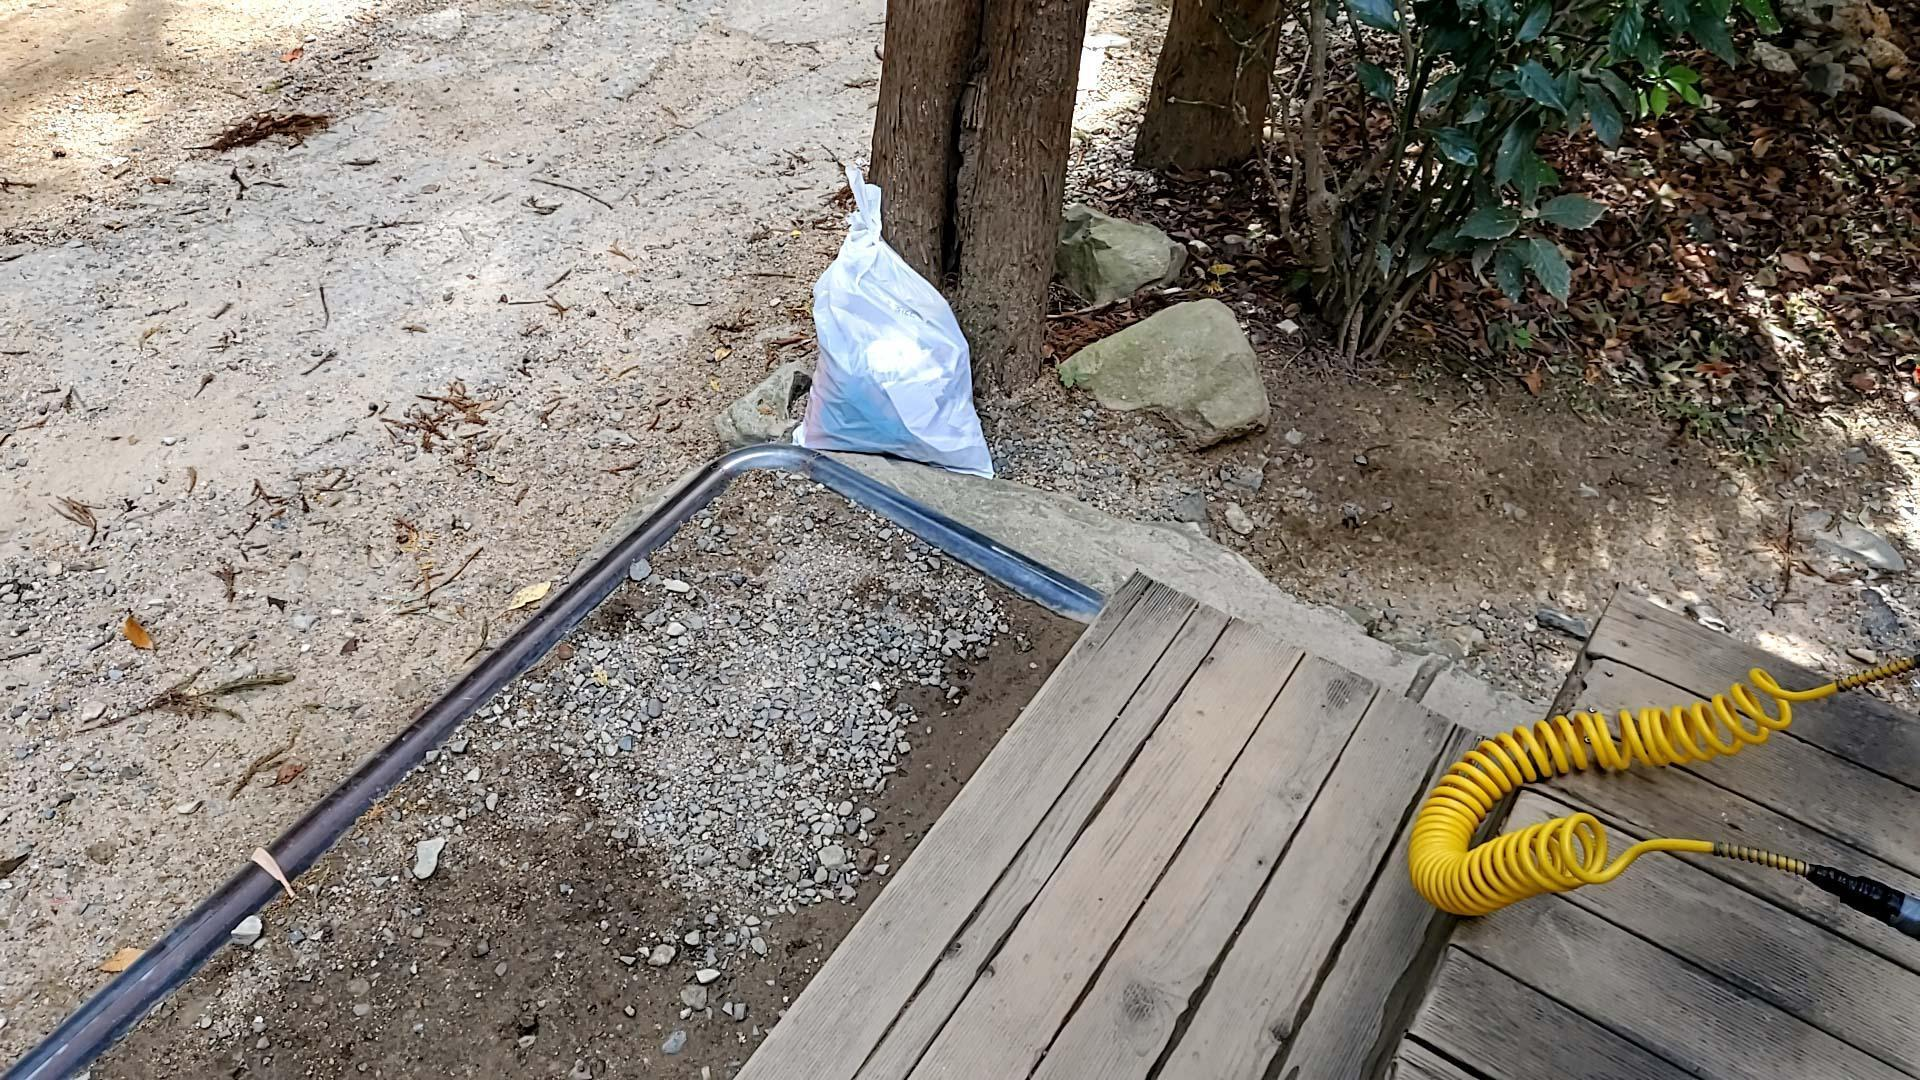white_bag: (779, 140, 1009, 489)
